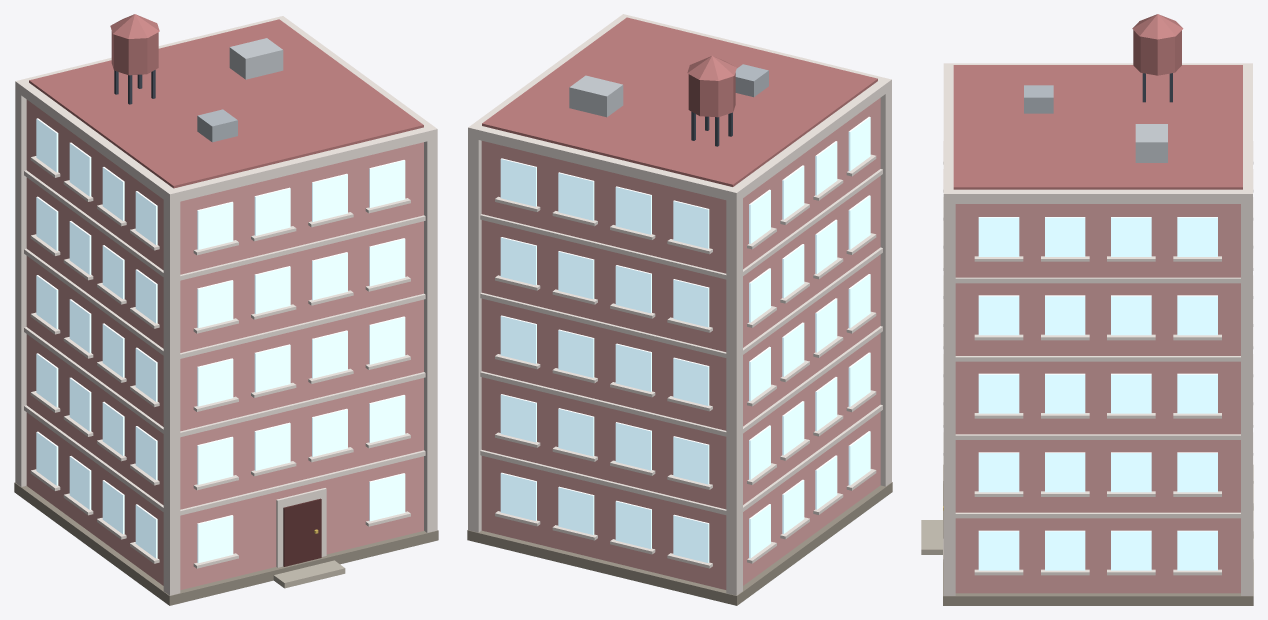
The model's file is residencias-pinos.glb.
3 views of the same model, side by side, from view 1: azimuth 30°, elevation 25°; view 2: azimuth 150°, elevation 25°; view 3: azimuth 270°, elevation 25° (orthographic).
Visible parts, largest first — view 1: residencias-pinos_1, residencias-pinos_2, residencias-pinos_3, residencias-pinos_7, residencias-pinos_0, residencias-pinos_4, residencias-pinos_8, residencias-pinos_6, residencias-pinos_9; view 2: residencias-pinos_1, residencias-pinos_3, residencias-pinos_2, residencias-pinos_7, residencias-pinos_0, residencias-pinos_8, residencias-pinos_9; view 3: residencias-pinos_1, residencias-pinos_7, residencias-pinos_3, residencias-pinos_2, residencias-pinos_0, residencias-pinos_8, residencias-pinos_9, residencias-pinos_6.
Boxes of the visible parts, left/top/right/bottom form: residencias-pinos_1: left=26, top=99, right=423, bottom=590; residencias-pinos_2: left=15, top=16, right=437, bottom=595; residencias-pinos_3: left=36, top=118, right=405, bottom=563; residencias-pinos_7: left=29, top=14, right=423, bottom=188; residencias-pinos_0: left=14, top=482, right=438, bottom=605; residencias-pinos_4: left=283, top=498, right=321, bottom=566; residencias-pinos_8: left=229, top=38, right=283, bottom=79; residencias-pinos_6: left=273, top=560, right=345, bottom=588; residencias-pinos_9: left=197, top=109, right=237, bottom=142; residencias-pinos_1: left=481, top=98, right=880, bottom=589; residencias-pinos_3: left=500, top=116, right=870, bottom=562; residencias-pinos_2: left=468, top=14, right=891, bottom=595; residencias-pinos_7: left=482, top=17, right=877, bottom=186; residencias-pinos_0: left=467, top=482, right=892, bottom=605; residencias-pinos_8: left=569, top=75, right=623, bottom=117; residencias-pinos_9: left=735, top=64, right=768, bottom=97; residencias-pinos_1: left=955, top=204, right=1240, bottom=593; residencias-pinos_7: left=953, top=14, right=1242, bottom=189; residencias-pinos_3: left=978, top=217, right=1217, bottom=570; residencias-pinos_2: left=943, top=63, right=1253, bottom=595; residencias-pinos_0: left=943, top=465, right=1253, bottom=605; residencias-pinos_8: left=1135, top=124, right=1167, bottom=162; residencias-pinos_9: left=1024, top=85, right=1053, bottom=113; residencias-pinos_6: left=921, top=520, right=942, bottom=554.
Size of the model in its own units: 11.5 by 20.25 by 12.3.
